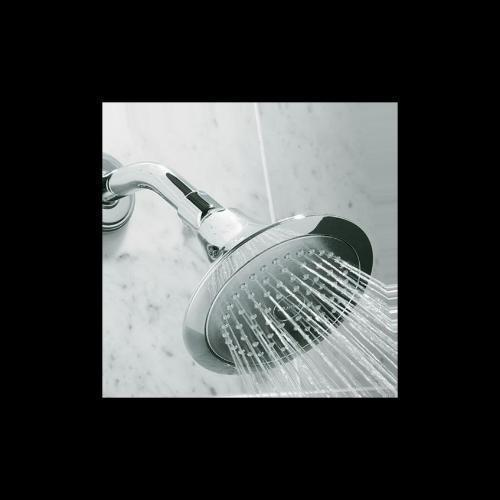Ducha: (102, 102, 397, 397)
